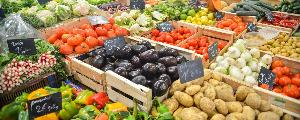bell_pepper: (2, 86, 176, 120), (89, 92, 109, 109)
cucumber: (226, 0, 276, 18), (237, 10, 259, 16)
eggplant: (84, 37, 188, 95), (140, 49, 159, 63)
lemon: (187, 4, 221, 28), (207, 12, 215, 19)
onion: (205, 38, 276, 80), (250, 48, 261, 59)
radish: (1, 45, 64, 89), (26, 60, 31, 63)
tomato: (42, 20, 134, 59), (258, 54, 300, 95), (176, 35, 234, 61), (144, 20, 194, 46), (209, 17, 257, 35), (67, 34, 83, 45), (284, 88, 300, 98), (233, 16, 243, 23), (218, 42, 226, 49), (152, 29, 159, 36)
zucchini: (276, 0, 300, 14), (281, 4, 288, 11)
